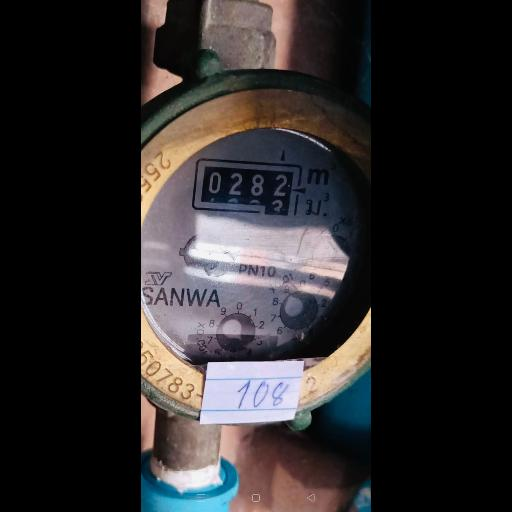0: (201, 165, 227, 204)
2: (265, 169, 294, 217), (223, 167, 249, 206)
8: (245, 168, 270, 207)
border_water_meter_number: (192, 158, 303, 217)
